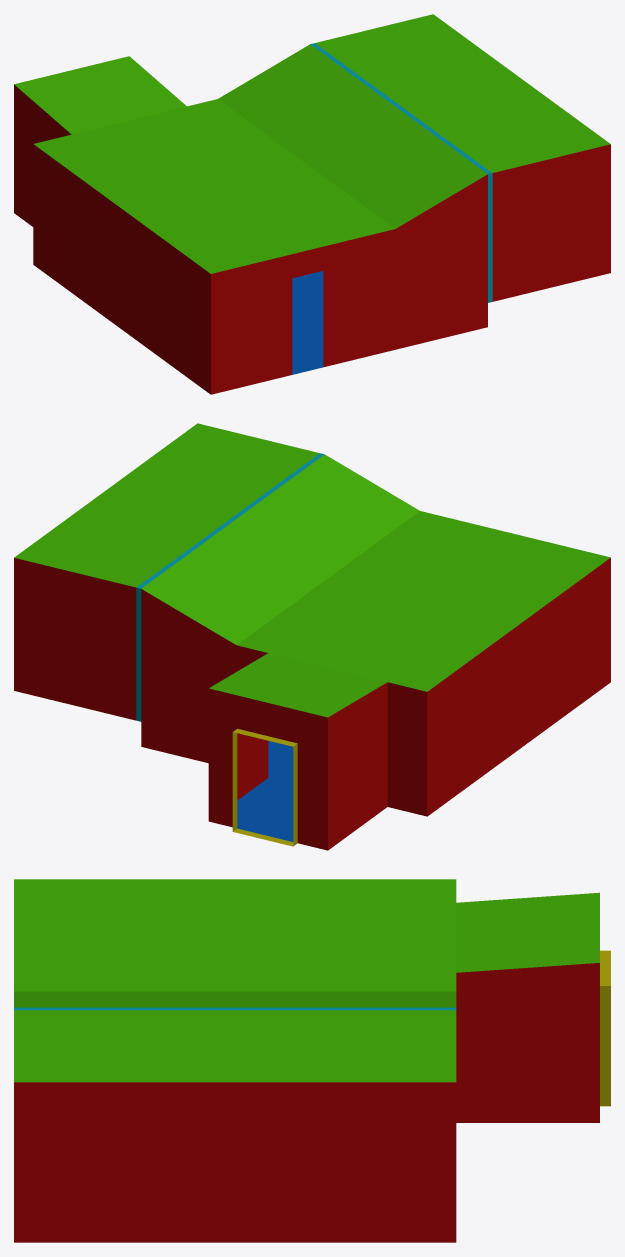
The model's file is Room_v3.1.fbx.
3 renders of one model, top to bottom at view 1: azimuth 30°, elevation 25°; view 2: azimuth 150°, elevation 25°; view 3: azimuth 270°, elevation 25°, orthographic. The views are drawn at different scales.
Visible parts, largest first — view 1: polySurface2826; view 2: polySurface2826; view 3: polySurface2826.
Part boxes in pixels (x1,y1,x2,y2): polySurface2826: [14, 14, 610, 394]; polySurface2826: [14, 423, 610, 850]; polySurface2826: [14, 879, 610, 1242].
Bounding box in the file's own units: 1300 × 475 × 1350.
